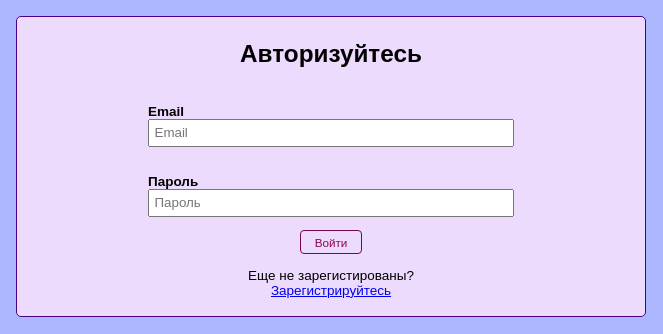
it: App component › user clicks on a link to registration and goes to Registration path
Click the link "Зарегистрируйтесь" at (331, 290), box [271, 282, 391, 298]
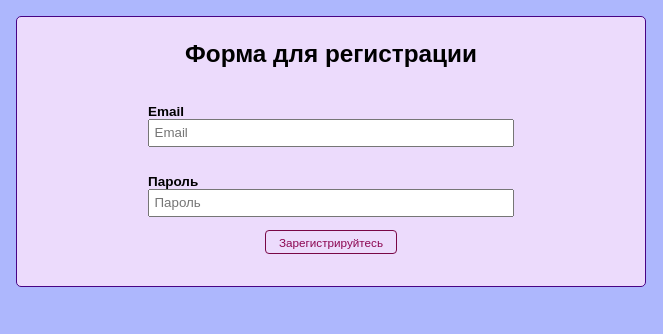
Expected: the heading "Форма для регистрации" is shown, [185, 40, 477, 66]
